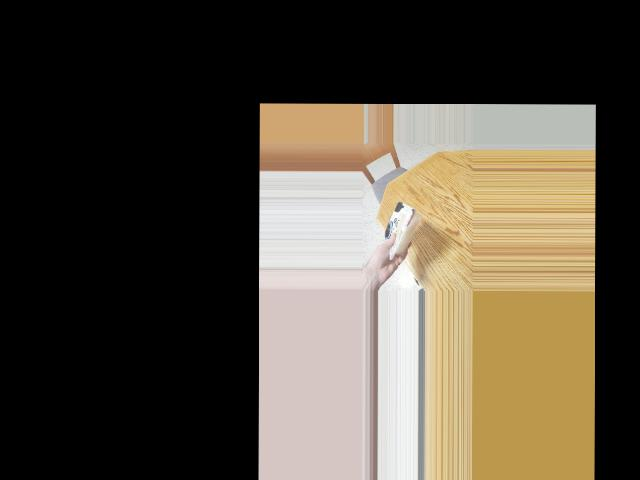cheese: (375, 204, 420, 251)
